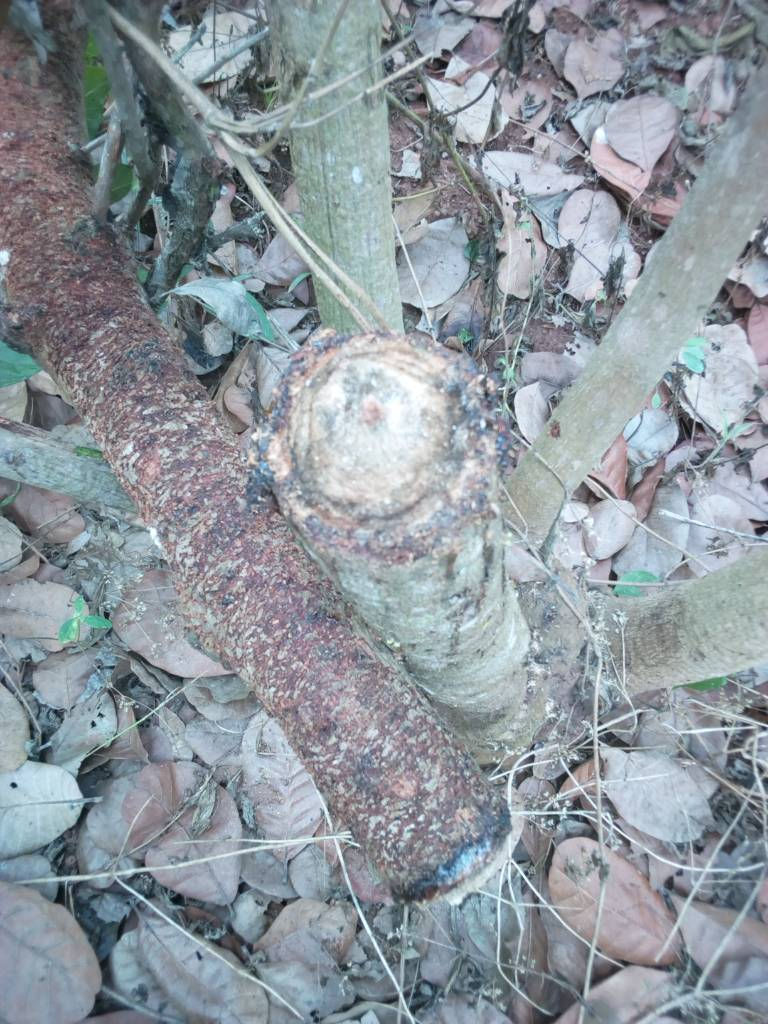Analepse trifasciata: (238, 332, 507, 541)
